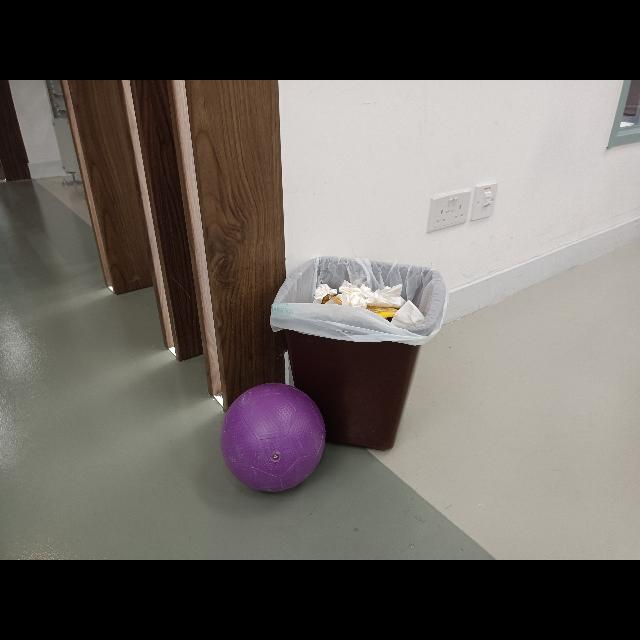P: (214, 381, 330, 495)
